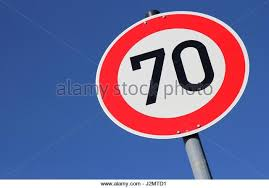Speed_limit_70km: (96, 12, 250, 139)
